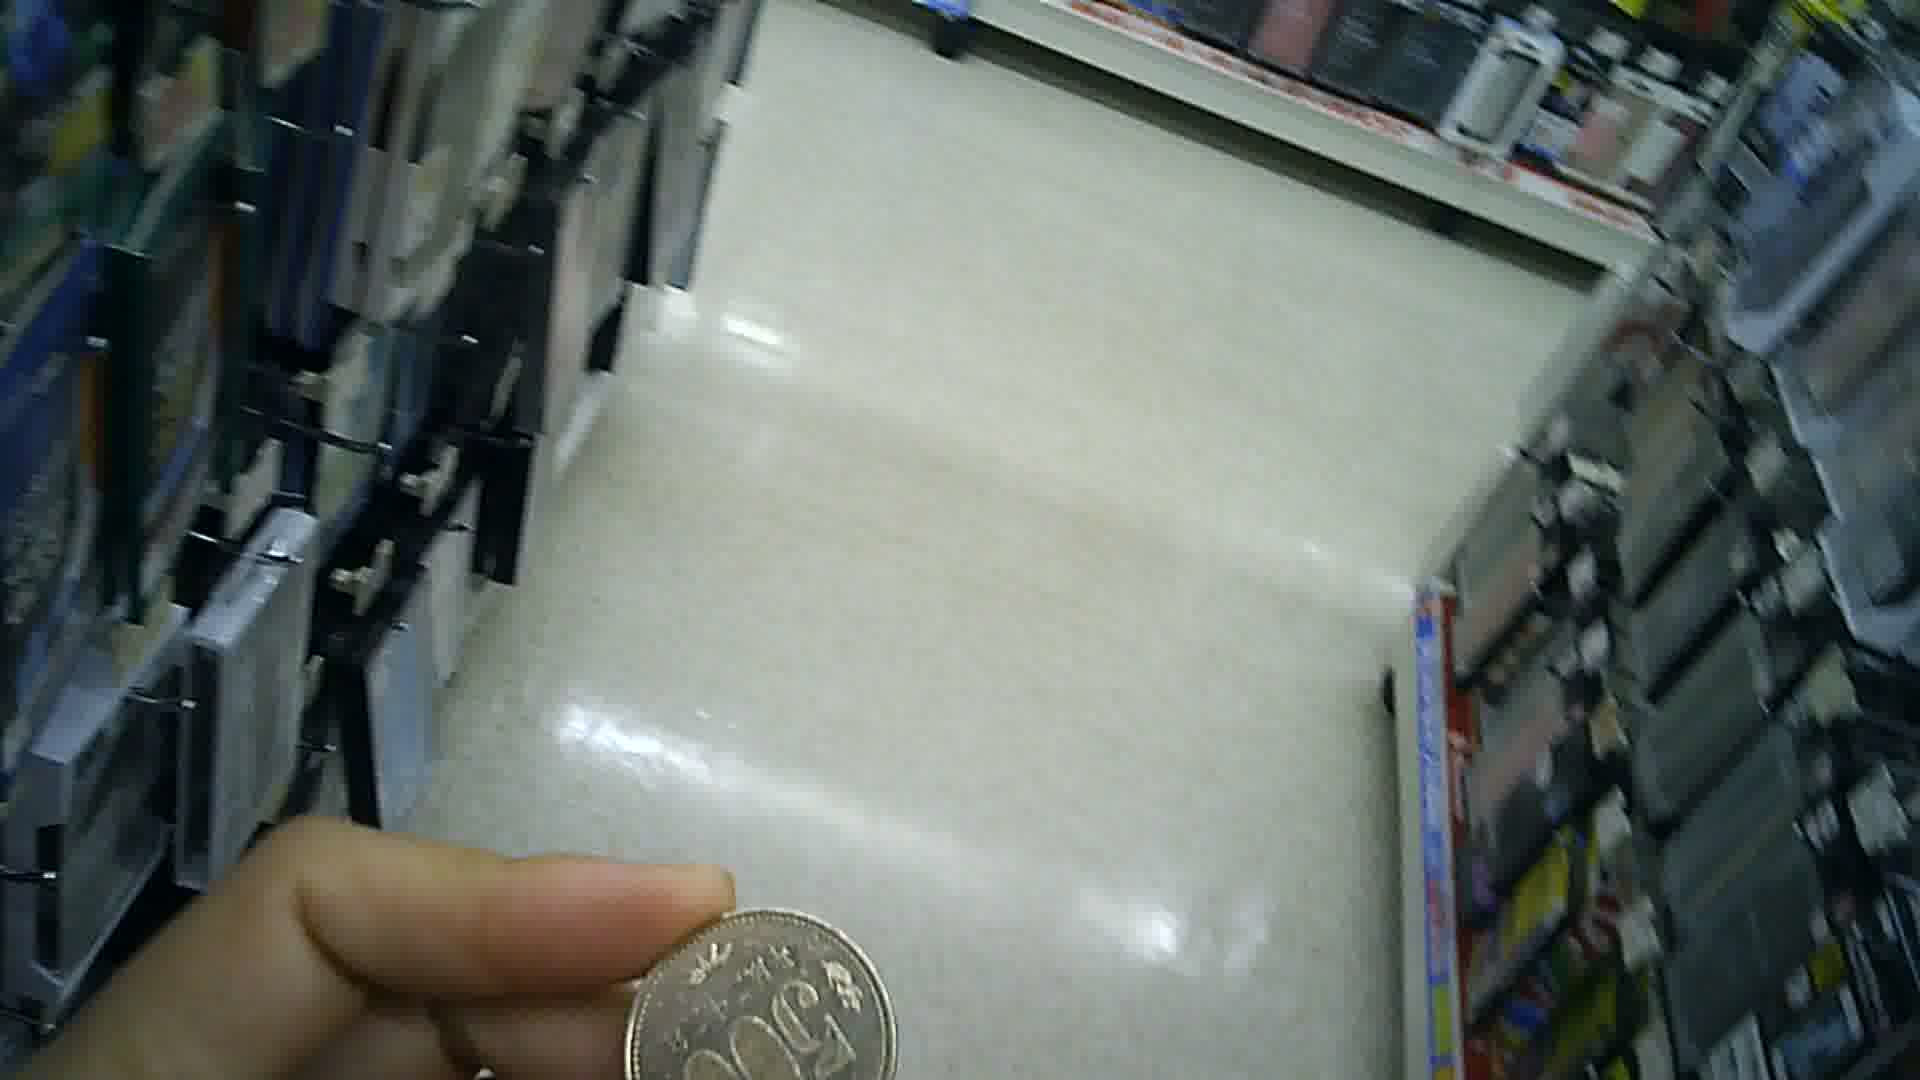500 Yen: (620, 905, 906, 1079)
